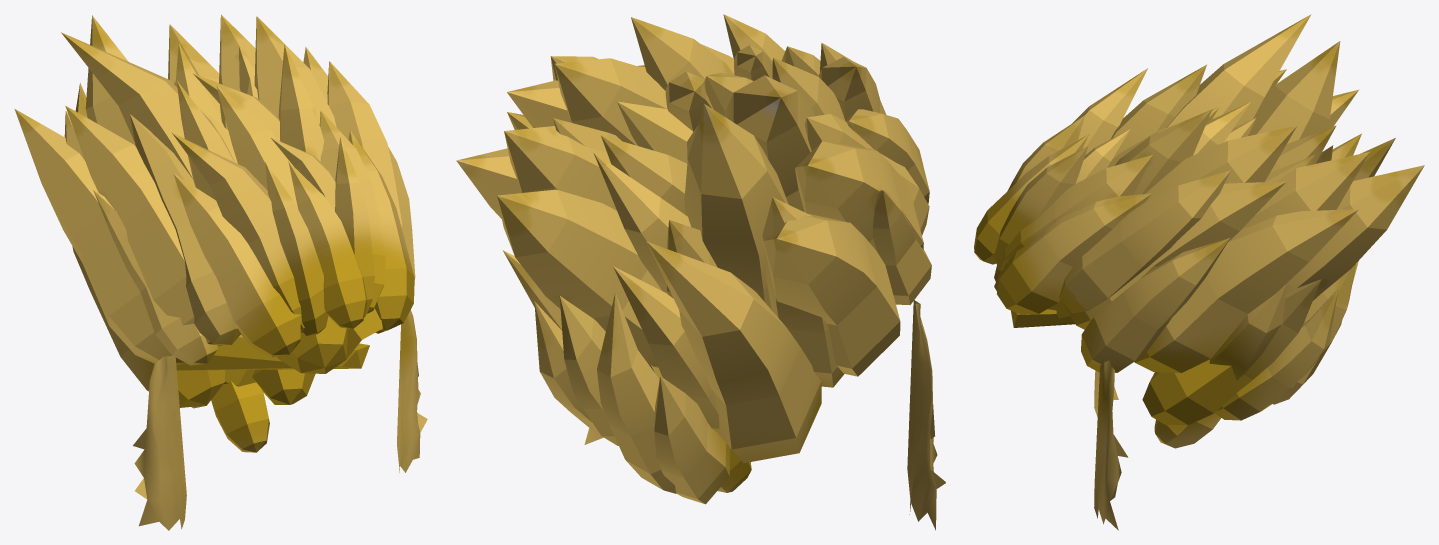
File: hair 2.fbx
3 views of the same model, side by side, from view 1: azimuth 30°, elevation 25°; view 2: azimuth 150°, elevation 25°; view 3: azimuth 270°, elevation 25° (orthographic). The views are drawn at different scales.
Visible parts, largest first — view 1: pSphere50; view 2: pSphere50; view 3: pSphere50.
Part boxes in pixels (x1,y1,x2,y2): pSphere50: [14, 14, 427, 530]; pSphere50: [456, 14, 945, 530]; pSphere50: [974, 14, 1424, 530].
Size of the model in its own units: 1.34 by 1.79 by 1.83.
1 material, 1 textured.
